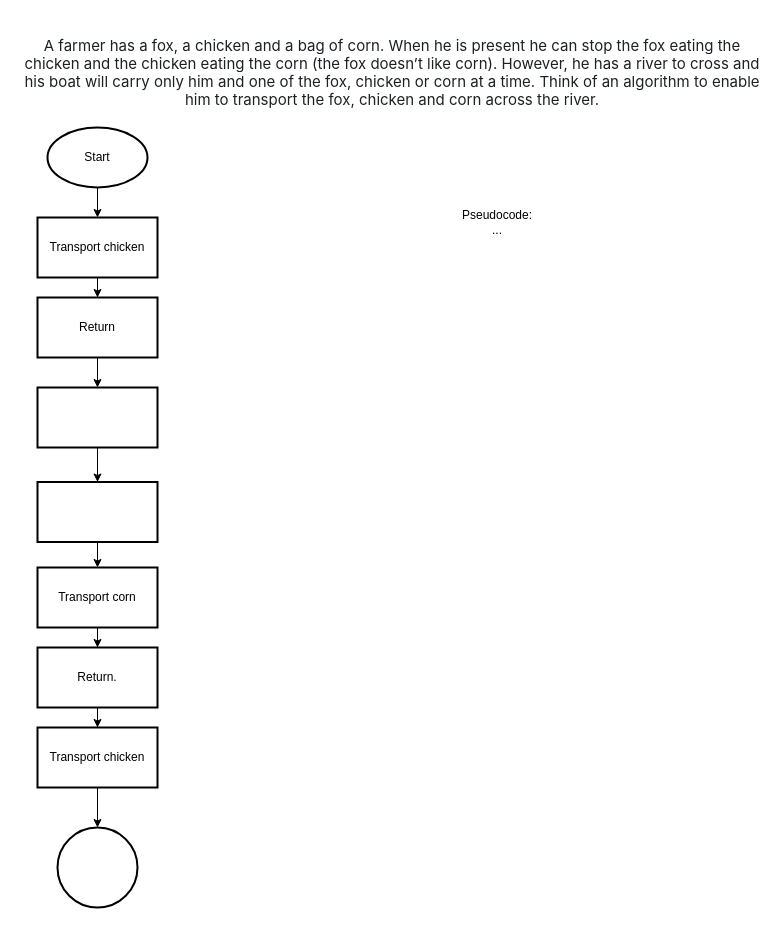
Image size: 784x925. Some labels were removed from this diagram. The centre of each missing label's shape, as x and y in pixels:
"End." goes at point 97,867.
"Return with chicken" goes at point 97,511.
"Transport fox" goes at point 97,417.
